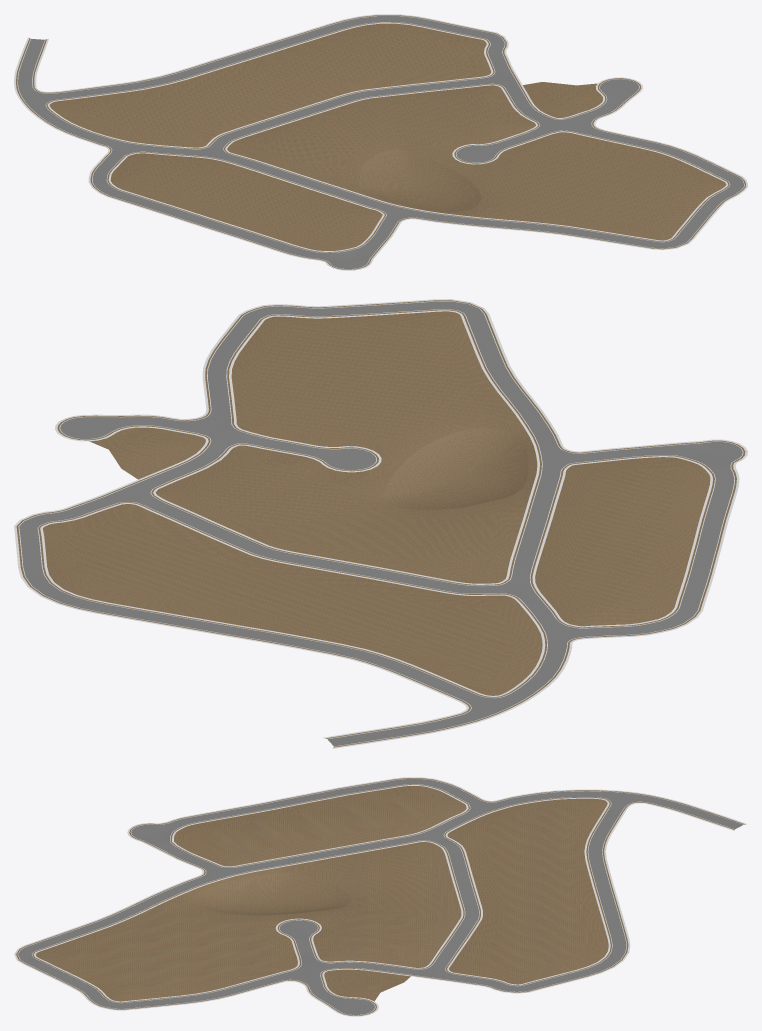
Rendered from roadstest.fbx.
The picture shows the model from 3 angles, top to bottom: view 1: azimuth 30°, elevation 25°; view 2: azimuth 150°, elevation 25°; view 3: azimuth 270°, elevation 25°; orthographic projection. The views are drawn at different scales.
Parts seen in each view (by area): view 1: roads; view 2: roads; view 3: roads.
Part boxes in pixels (x1=…): roads: x1=14, y1=14, x2=747, y2=270; roads: x1=14, y1=299, x2=747, y2=748; roads: x1=14, y1=777, x2=747, y2=1016.
Size of the model in its own units: 35966 by 783 by 45687.
